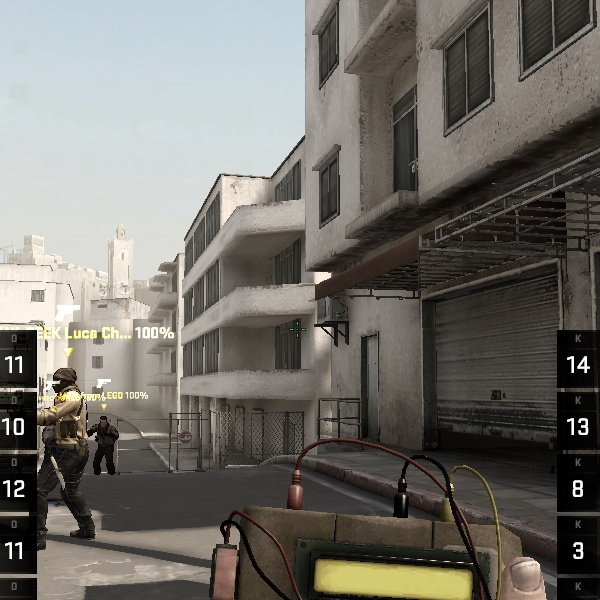t_body: (40, 368, 93, 544), (86, 415, 121, 476)
t_head: (52, 367, 77, 394), (100, 415, 107, 428)
